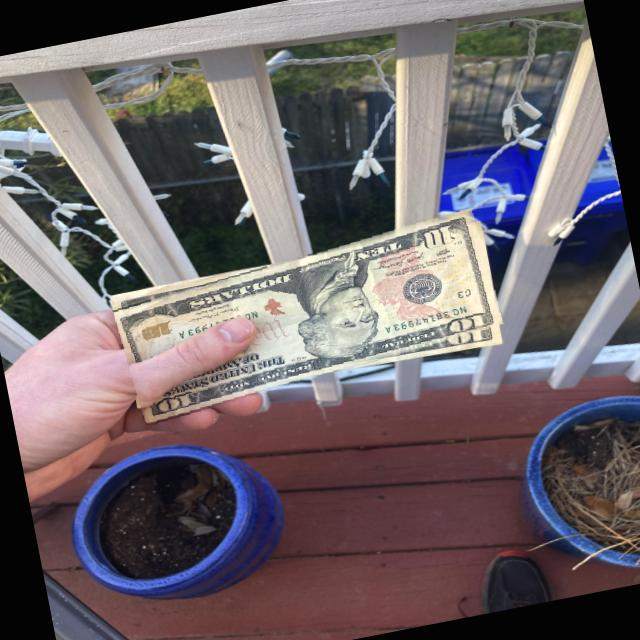ten: (110, 213, 507, 420)
